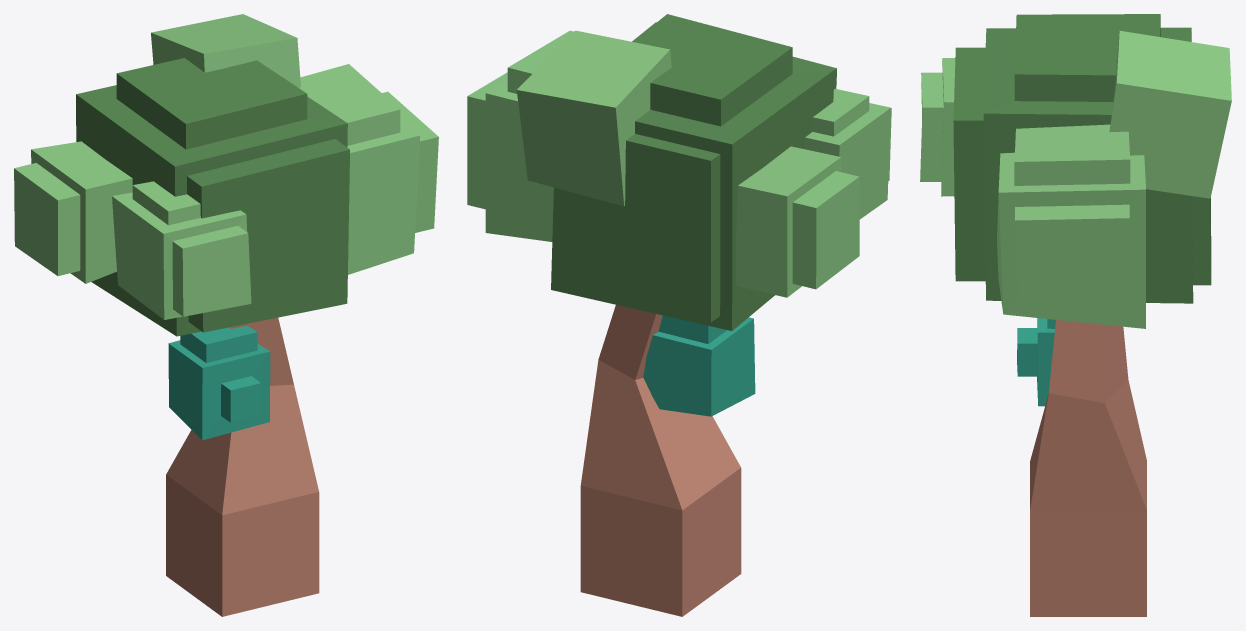
The model's file is tree3.fbx.
The picture shows the model from 3 angles, left to right: view 1: azimuth 30°, elevation 25°; view 2: azimuth 150°, elevation 25°; view 3: azimuth 270°, elevation 25°; orthographic projection. The views are drawn at different scales.
Parts seen in each view (by area): view 1: tree3; view 2: tree3; view 3: tree3.
Part boxes in pixels (<box>): tree3: <box>14,14,438,616</box>; tree3: <box>467,14,891,616</box>; tree3: <box>920,14,1231,616</box>.
Size of the model in its own units: 219 by 311 by 160.
